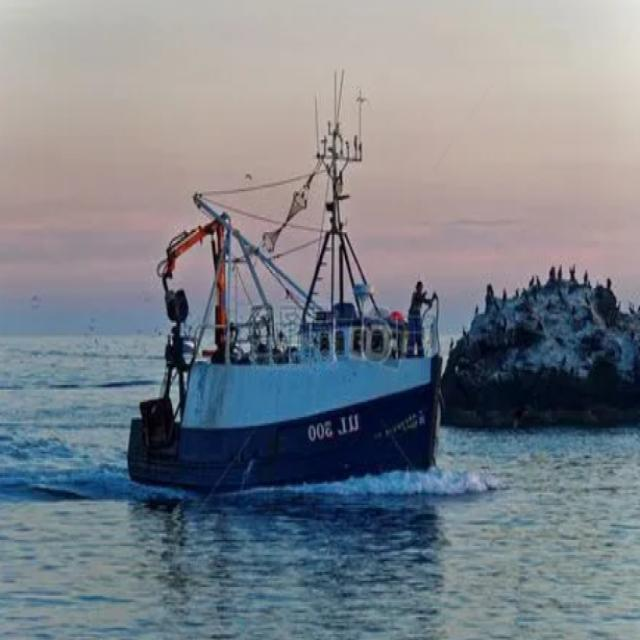fishing boat: (134, 138, 446, 490)
